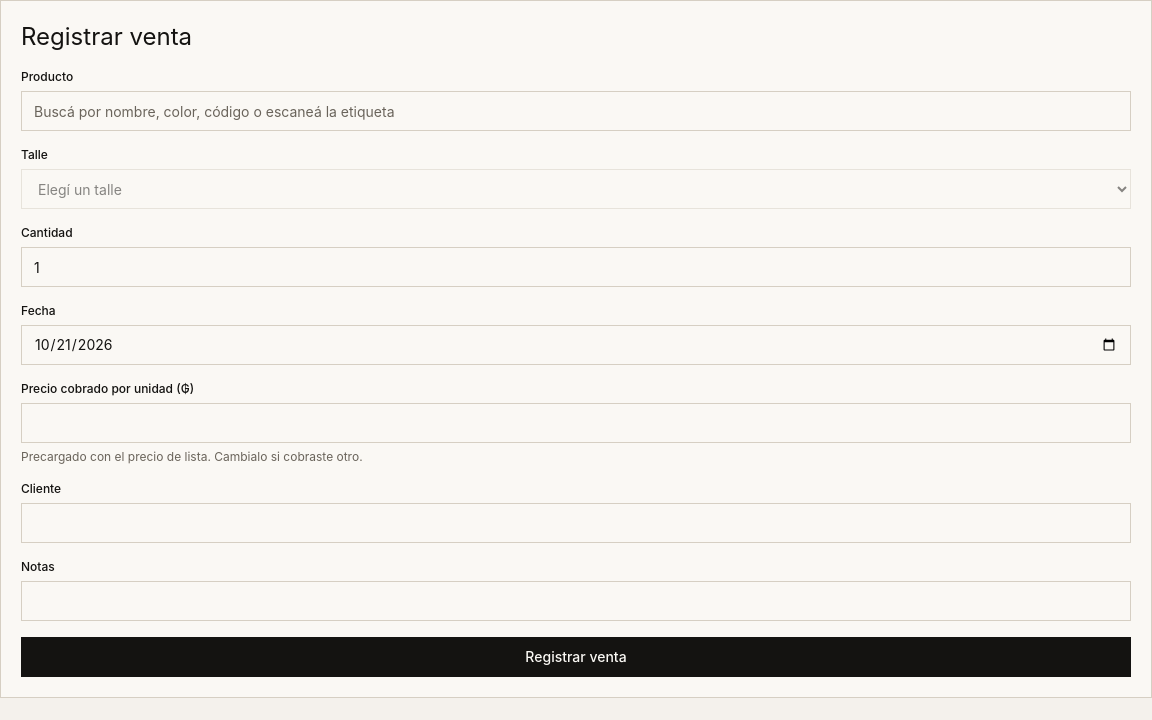
Test: SaleForm › selects product and size when an exact size barcode is typed
The image size is (1152, 720).
Type " at000002 " into the dropdown labelled "Producto" at (576, 111), box [21, 91, 1131, 131]
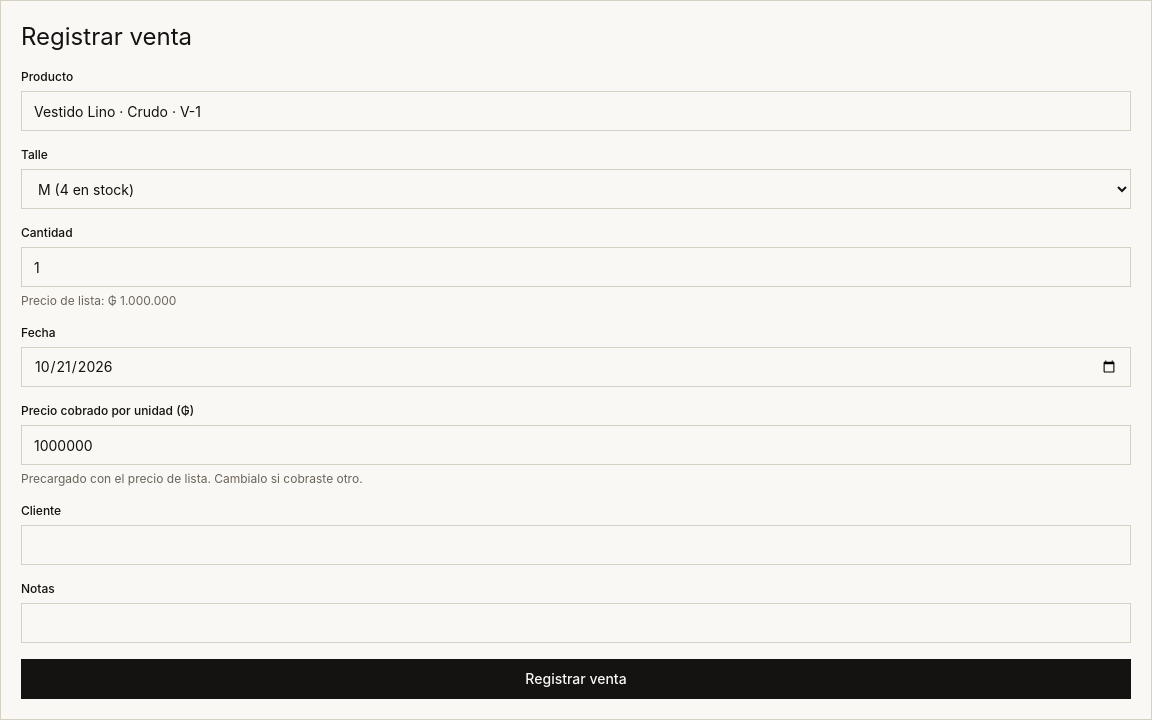
Expected: the element named "productId" holds "p1", [21, 69, 1131, 131]
Expected: the dropdown labelled "Talle" shows "M (4 en stock)", [21, 169, 1131, 209]
Expected: the number field labelled "Precio cobrado por unidad (₲)" holds "1000000", [21, 425, 1131, 465]
